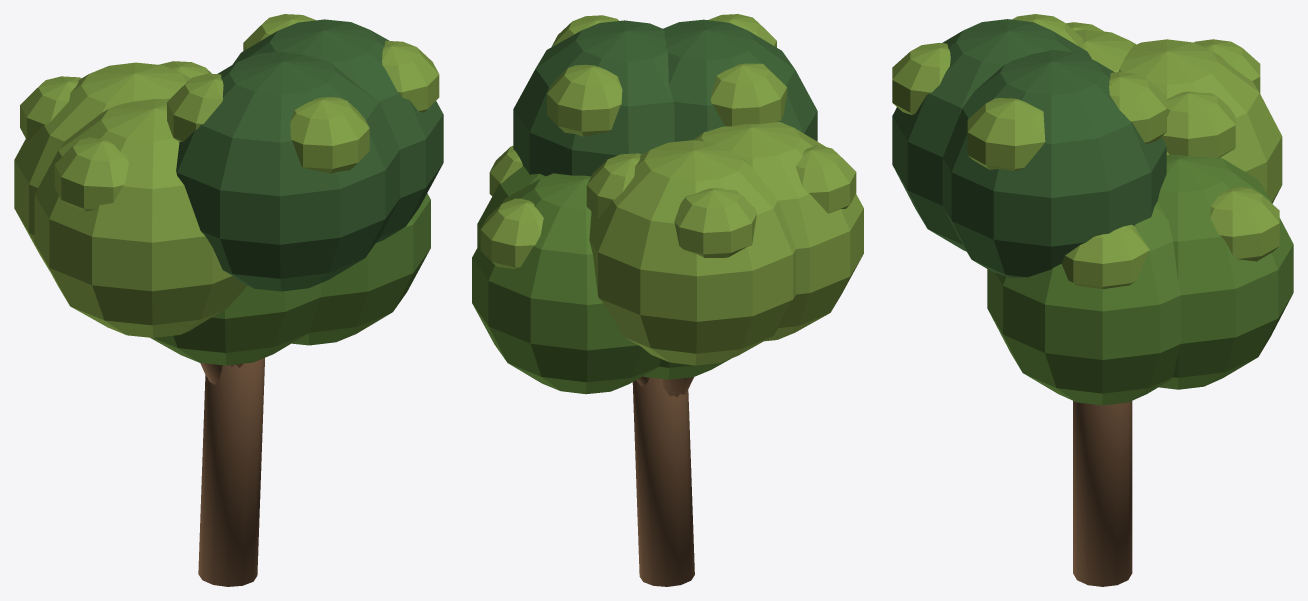
File: 27_leafy_tree.glb
3 views of the same model, side by side, from view 1: azimuth 30°, elevation 25°; view 2: azimuth 150°, elevation 25°; view 3: azimuth 270°, elevation 25° (orthographic). The views are drawn at different scales.
Visible parts, largest first — view 1: Leafy crown.002, Leafy crown.004, Tree trunk, Leafy crown.005, Leafy crown, Leafy crown.001, Leafy crown.006, Crown detail.006, Crown detail.012, Crown detail.015, Crown detail.008, Crown detail.003 (+1 smaller); view 2: Leafy crown.001, Leafy crown.003, Leafy crown.005, Leafy crown.004, Tree trunk, Leafy crown.002, Crown detail.003, Crown detail.016, Crown detail.008, Crown detail.009, Crown detail.012, Crown detail.005 (+5 smaller); view 3: Leafy crown.005, Leafy crown, Leafy crown.003, Leafy crown.002, Tree trunk, Leafy crown.001, Crown detail.015, Crown detail.005, Crown detail.009, Crown detail, Crown detail.006, Crown detail.016 (+3 smaller).
Part boxes in pixels (x1,y1,x2,y2): Leafy crown.002: (176,51,399,291); Leafy crown.004: (34,98,246,337); Tree trunk: (198,358,264,586); Leafy crown.005: (232,19,443,242); Leafy crown: (292,193,430,345); Leafy crown.001: (14,62,190,270); Leafy crown.006: (150,283,320,365); Crown detail.006: (290,97,369,173); Crown detail.012: (54,137,128,211); Crown detail.015: (382,40,439,112); Crown detail.008: (167,73,223,141); Crown detail.003: (20,76,81,140); Leafy crown.001: (589,140,796,365); Leafy crown.003: (472,173,660,394); Leafy crown.005: (513,20,674,176); Leafy crown.004: (693,121,863,341); Tree trunk: (632,377,694,586); Leafy crown.002: (663,19,817,141); Crown detail.003: (674,188,757,257); Crown detail.016: (547,64,622,136); Crown detail.008: (710,63,787,126); Crown detail.009: (480,198,543,269); Crown detail.012: (795,145,856,213); Crown detail.005: (586,153,641,217); Leafy crown.005: (942,50,1166,277); Leafy crown: (987,201,1180,405); Leafy crown.003: (1158,155,1293,389); Leafy crown.002: (892,19,1091,251); Tree trunk: (1073,401,1132,586); Leafy crown.001: (1118,39,1282,203); Crown detail.015: (967,98,1045,171); Crown detail.005: (1161,91,1235,158); Crown detail.009: (1210,187,1279,261); Crown detail: (1061,224,1149,289); Crown detail.006: (892,42,950,114); Crown detail.016: (1109,72,1166,143).
Size of the model in its own units: 1.91 by 2.65 by 1.77.
